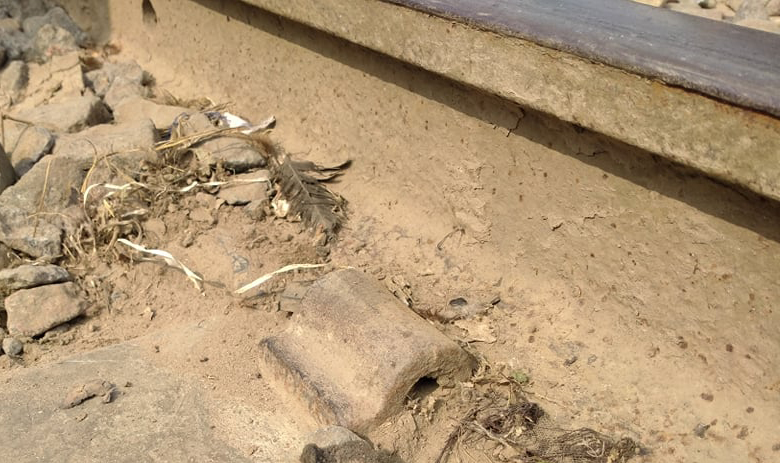loss: (265, 266, 486, 442)
